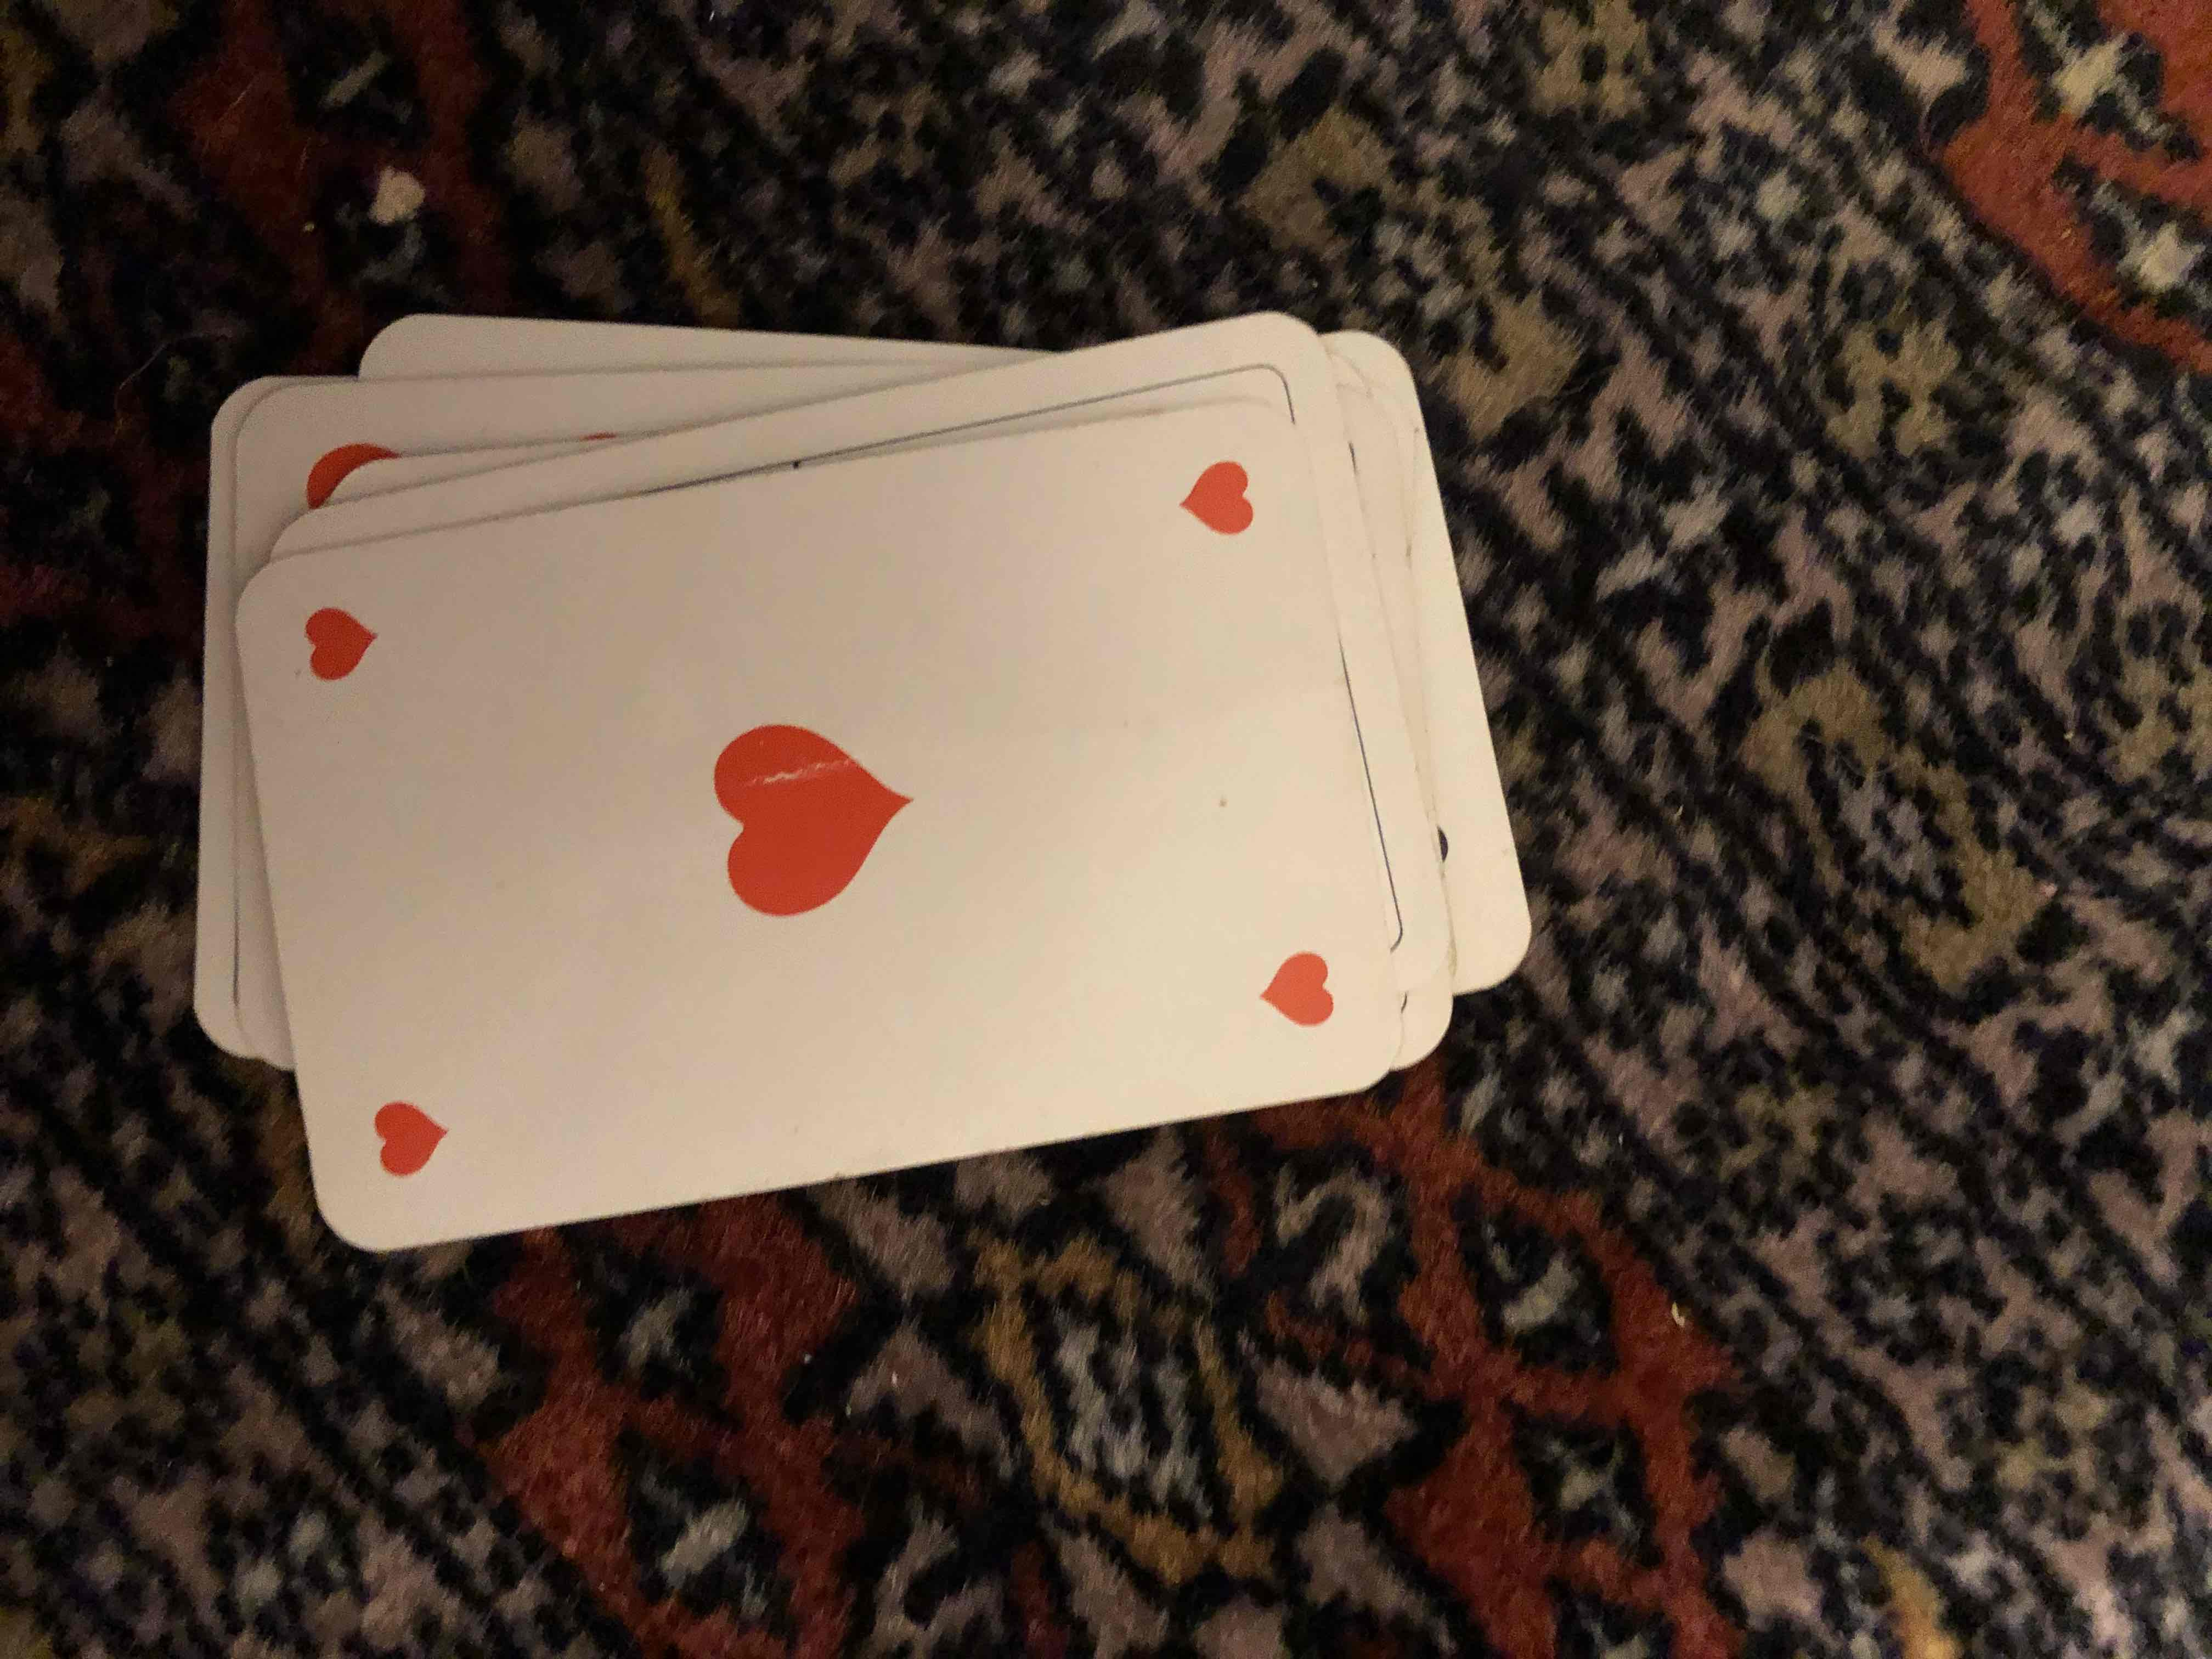heartsAce: (331, 336, 1400, 1208)
